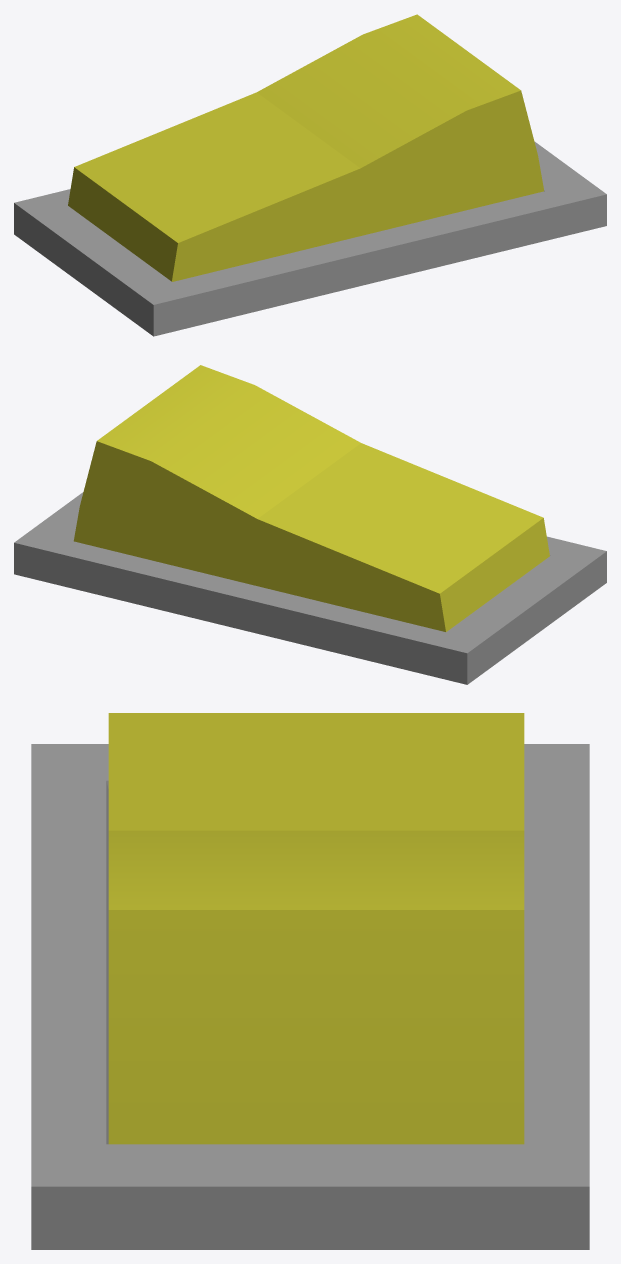
The model's file is Button.fbx.
3 renders of one model, top to bottom at view 1: azimuth 30°, elevation 25°; view 2: azimuth 150°, elevation 25°; view 3: azimuth 270°, elevation 25°, orthographic. The views are drawn at different scales.
Parts seen in each view (by area): view 1: Button_Button, Button_Box; view 2: Button_Button, Button_Box; view 3: Button_Button, Button_Box.
Boxes of the visible parts, x1,y1,x2,y2 form: Button_Button: [68, 14, 543, 281]; Button_Box: [14, 141, 606, 336]; Button_Button: [73, 365, 549, 631]; Button_Box: [14, 492, 606, 684]; Button_Button: [108, 713, 524, 1144]; Button_Box: [31, 744, 589, 1249].
Size of the model in its own units: 76.2 by 22.09 by 40.64.
